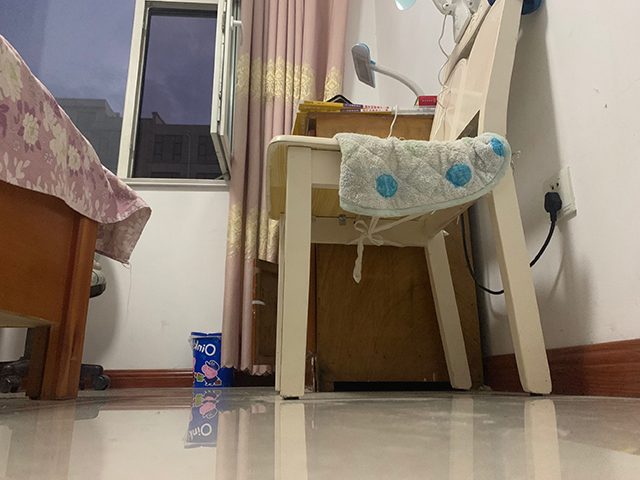curtain: (220, 1, 349, 379)
stool: (264, 1, 553, 400)
table: (250, 106, 485, 394)
